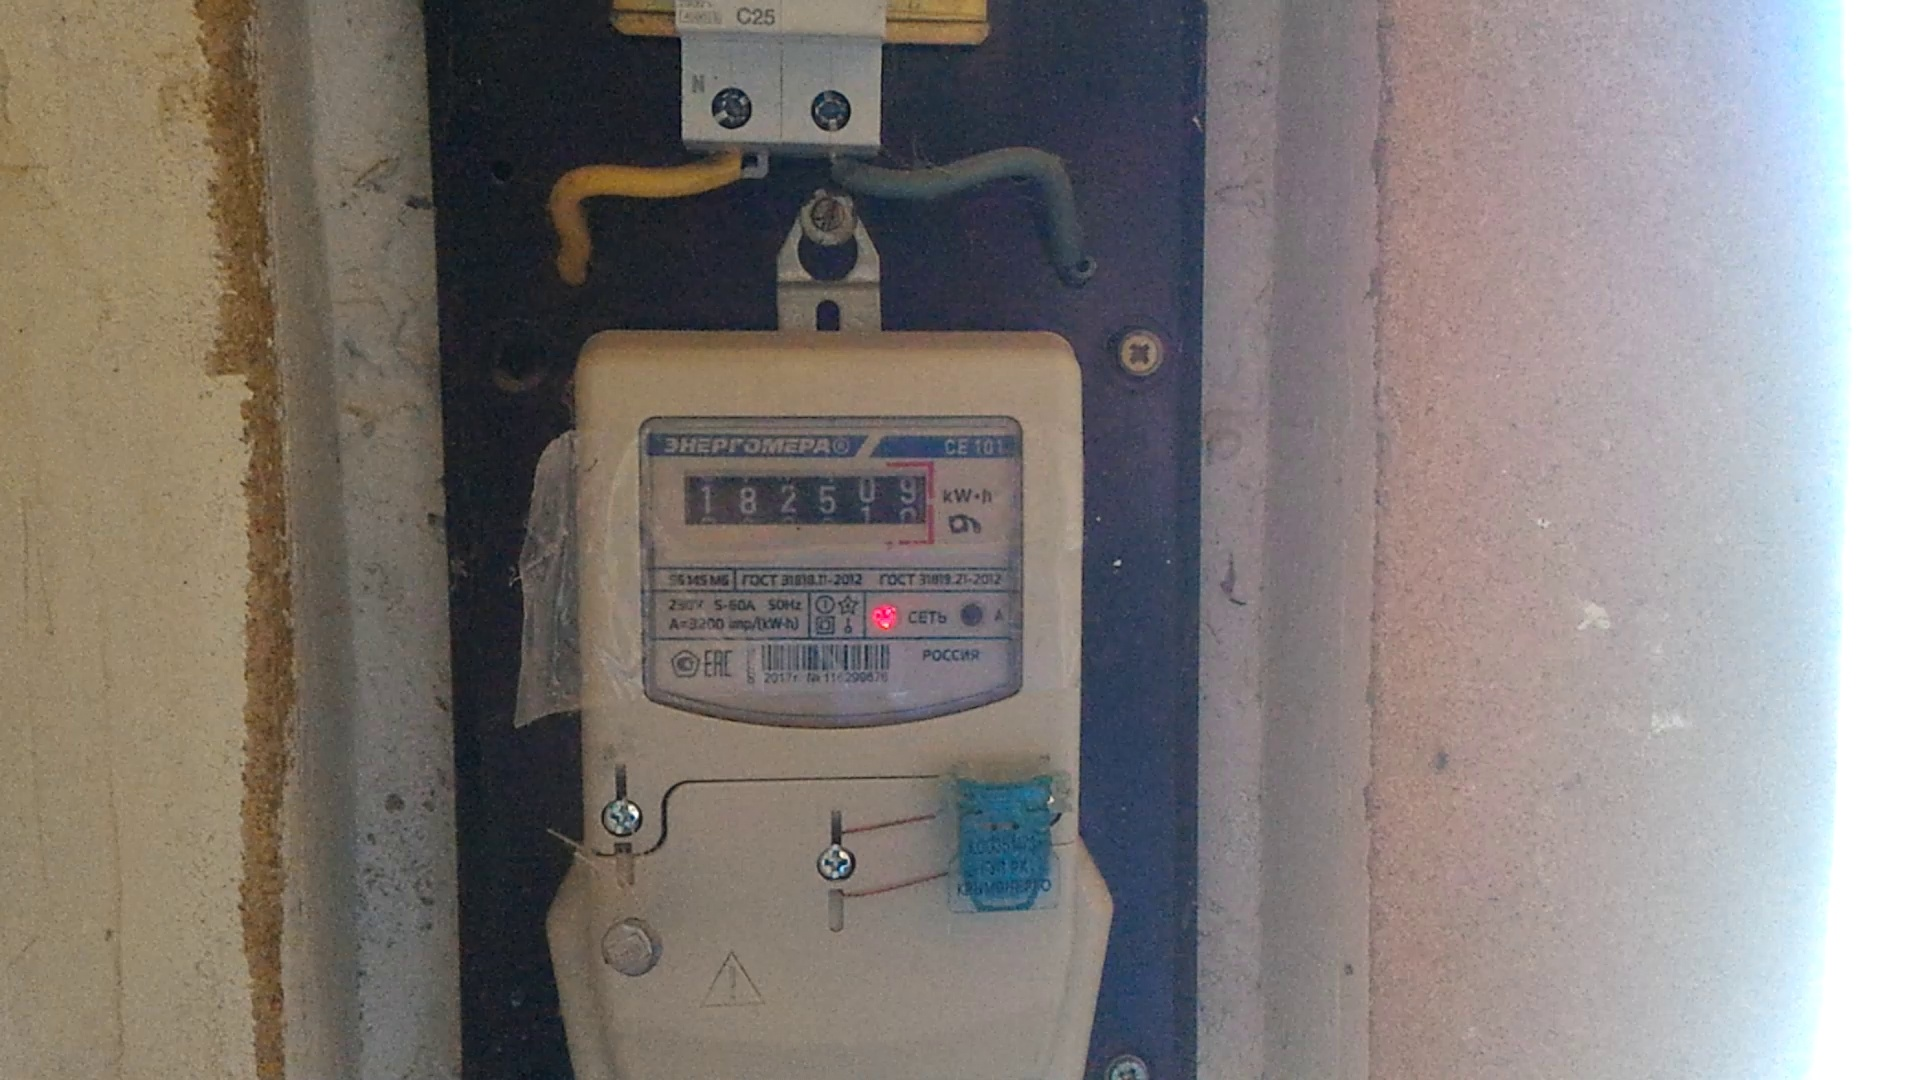counter: (572, 347, 1077, 1073)
counter_screen: (680, 472, 928, 527)
